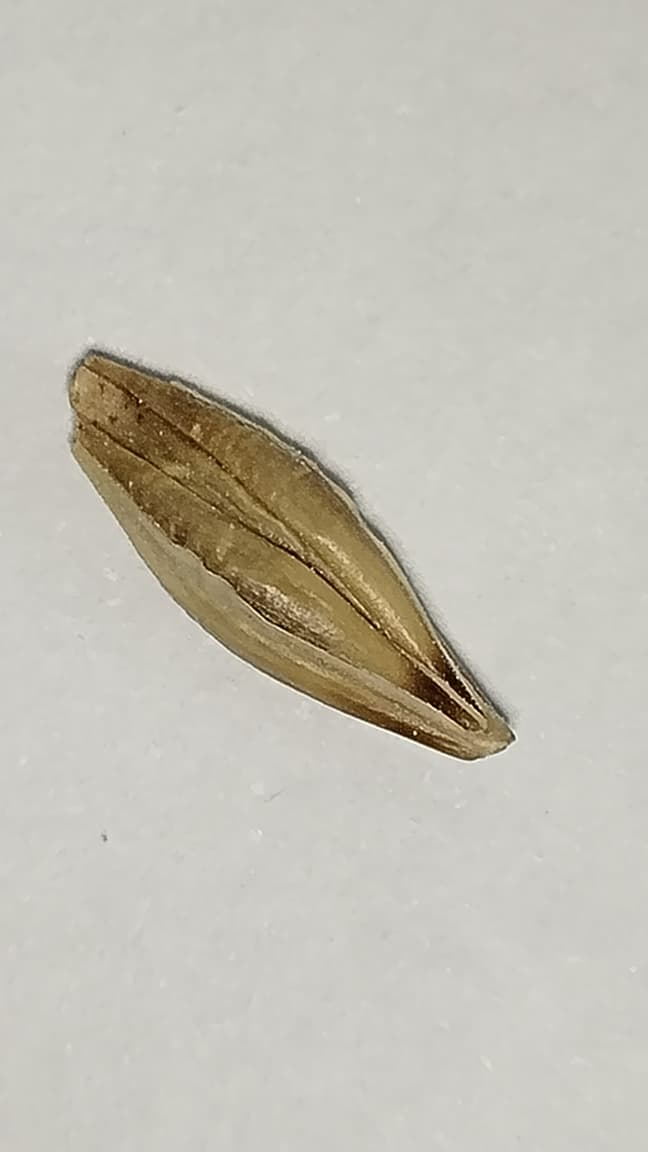healthy-70-60: (70, 355, 512, 758)
staindamage: (75, 353, 318, 633), (336, 661, 517, 762)
